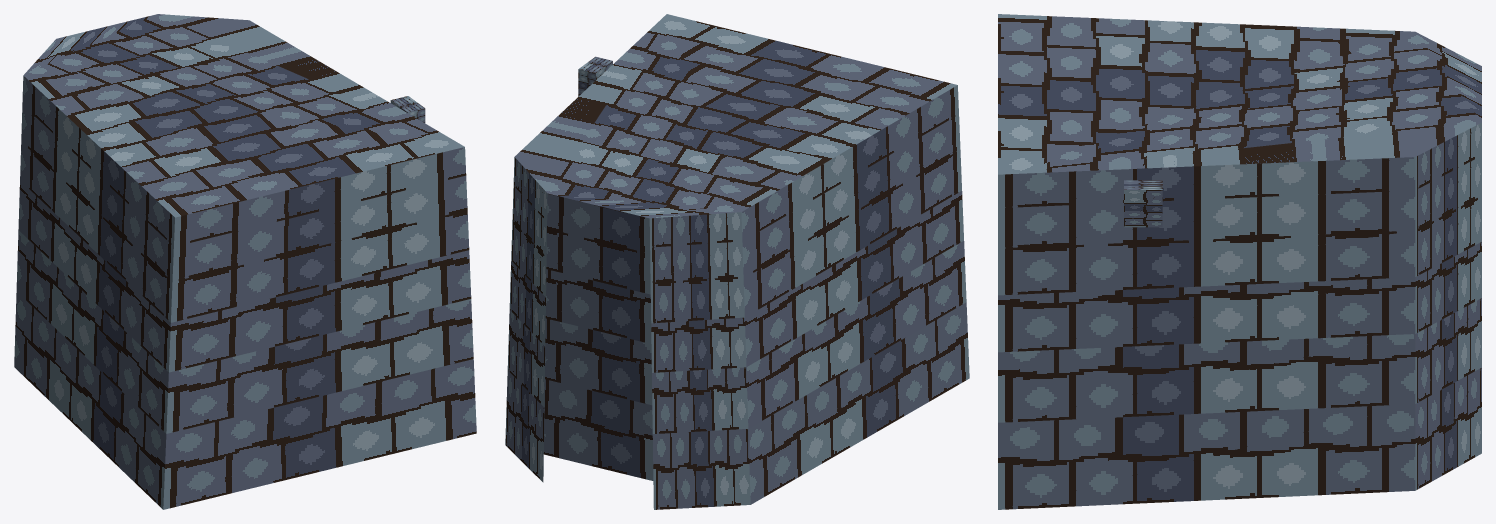
Rendered from RUI-02_Muelle_de_sillar_cabeza.gltf.
3 views of the same model, side by side, from view 1: azimuth 30°, elevation 25°; view 2: azimuth 150°, elevation 25°; view 3: azimuth 270°, elevation 25° (orthographic). The views are drawn at different scales.
Parts seen in each view (by area): view 1: RUI-02_Muelle_de_sillar_cabeza-col; view 2: RUI-02_Muelle_de_sillar_cabeza-col; view 3: RUI-02_Muelle_de_sillar_cabeza-col.
Part boxes in pixels (x1,y1,x2,y2): RUI-02_Muelle_de_sillar_cabeza-col: [14, 14, 476, 509]; RUI-02_Muelle_de_sillar_cabeza-col: [505, 14, 969, 509]; RUI-02_Muelle_de_sillar_cabeza-col: [998, 14, 1481, 509].
Size of the model in its own units: 3.44 by 3 by 4.
1 material, 1 textured.
